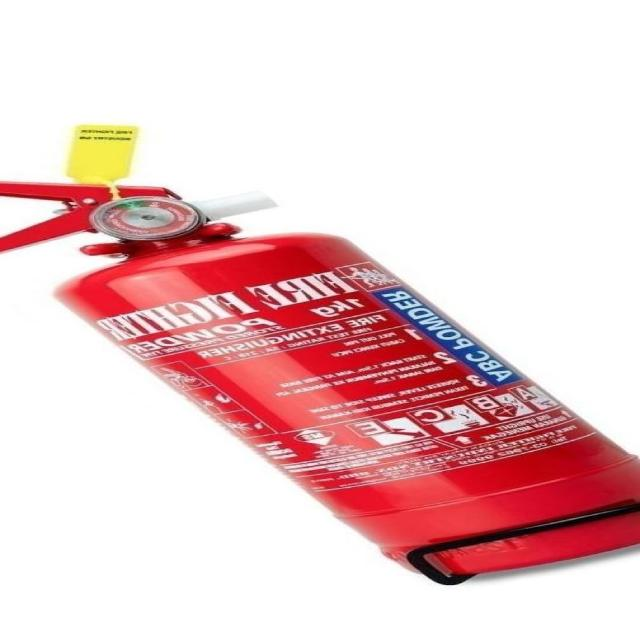fire_extinguisher: (0, 119, 637, 584)
